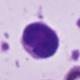L: (19, 20, 61, 60)
